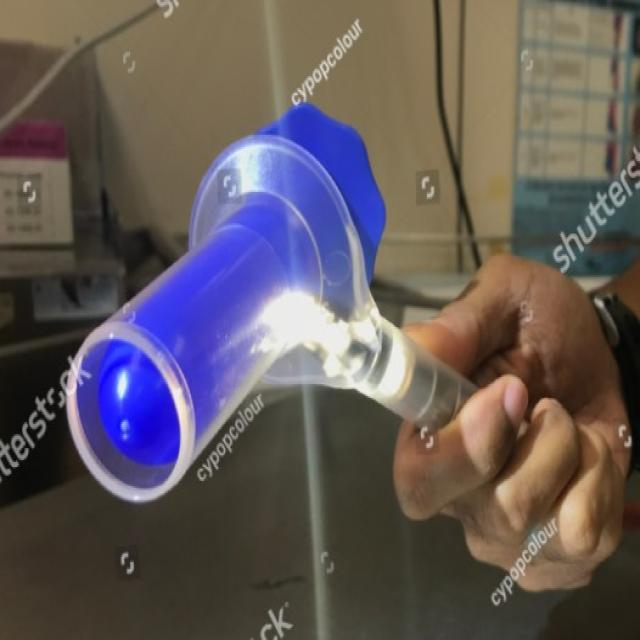Protoscope: (63, 103, 513, 519)
